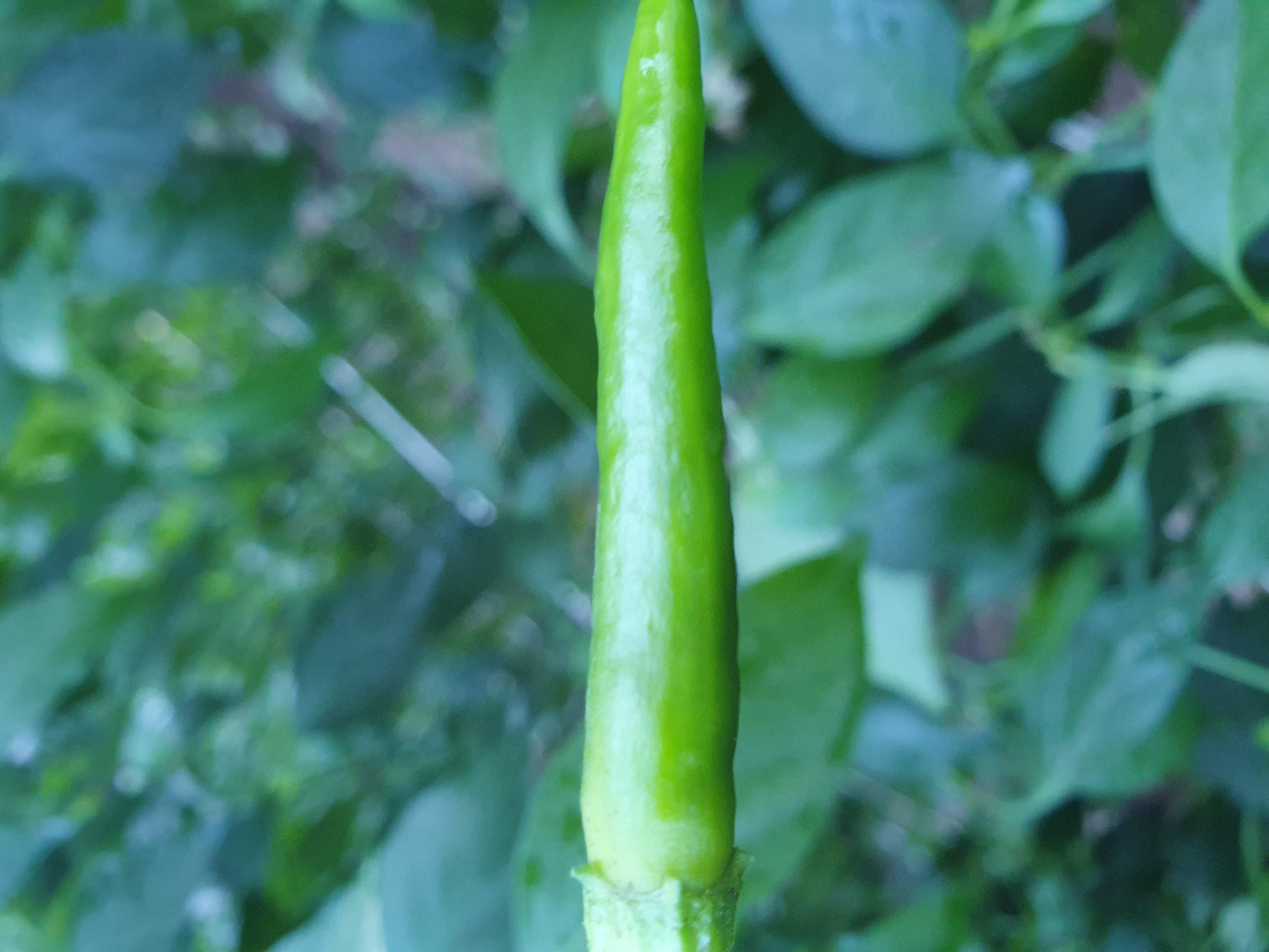Buah Cabai Sehat: (572, 2, 747, 944)
